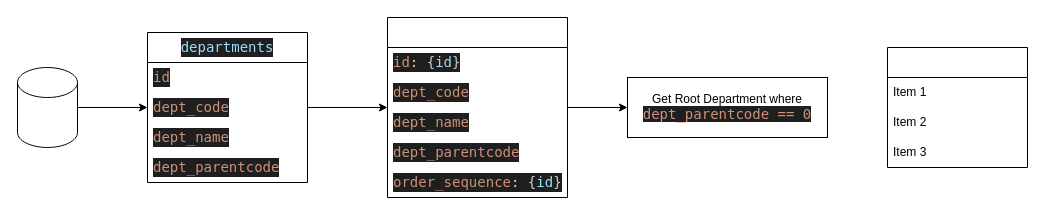
This 1045x215 diagram has some shape labels left out. Here are the shapes that lost their labels. From the top down, the box of each, then its label:
(386, 16, 568, 198): department_list
(886, 46, 1028, 168): List
